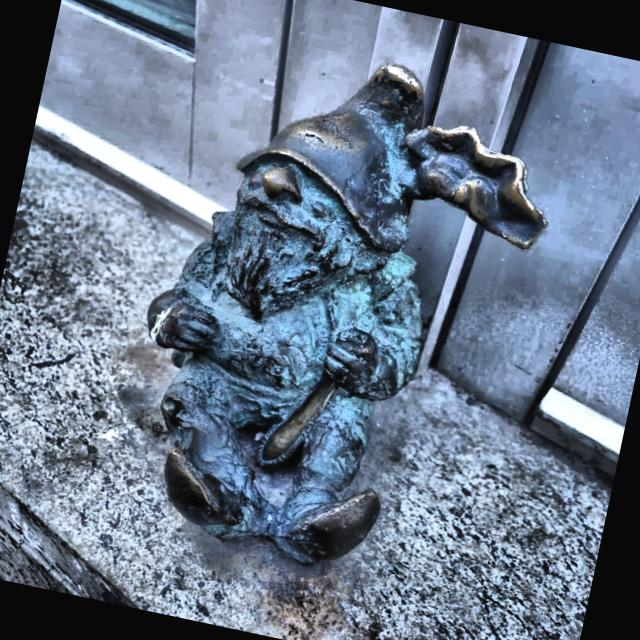Pieroznik: (147, 64, 544, 567)
